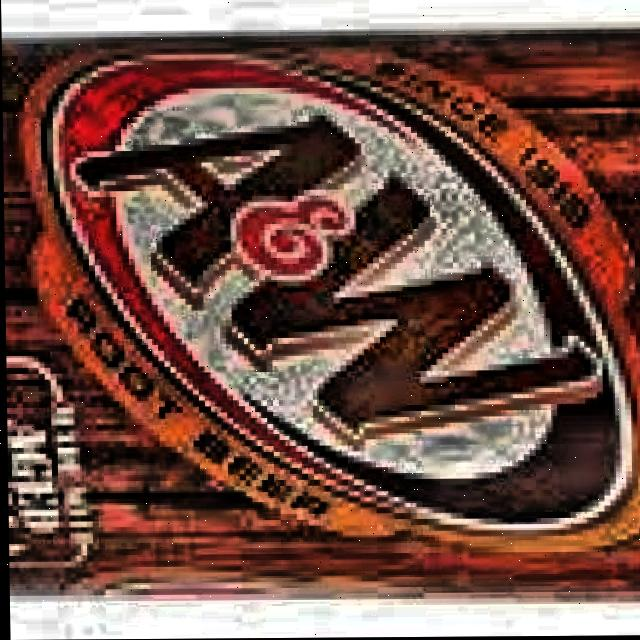metal: (0, 26, 640, 607)
